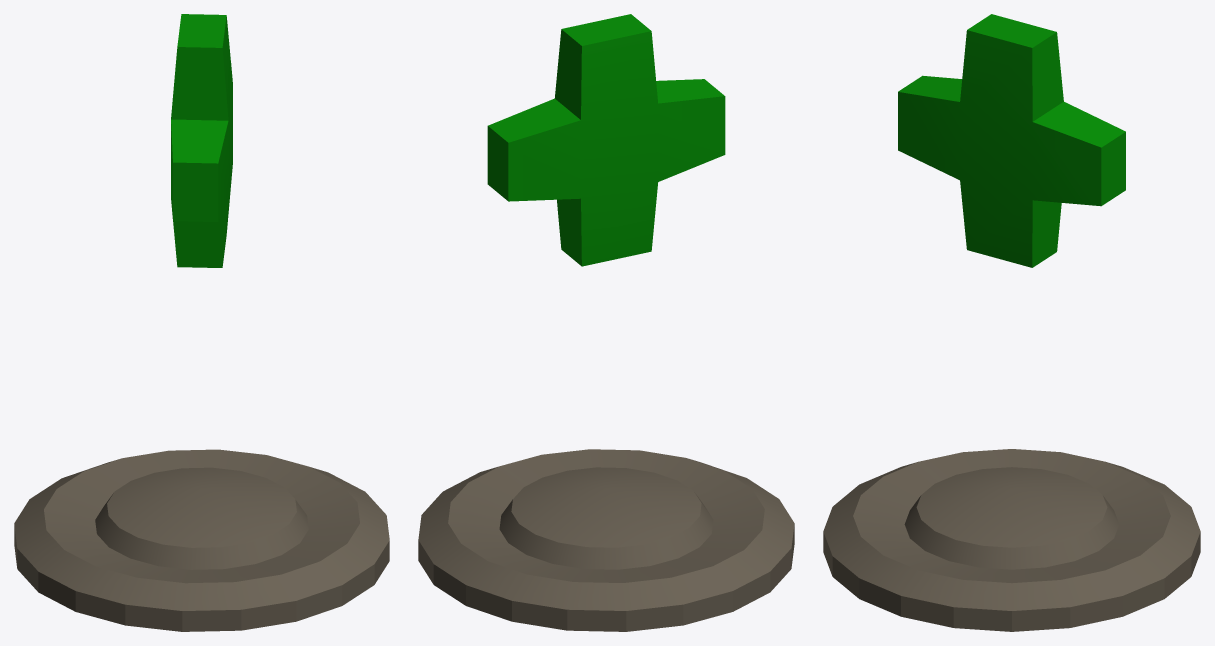
Rendered from HealthBonus.fbx.
3 views of the same model, side by side, from view 1: azimuth 30°, elevation 25°; view 2: azimuth 150°, elevation 25°; view 3: azimuth 270°, elevation 25° (orthographic).
Visible parts, largest first — view 1: Base, HealthBonus; view 2: Base, HealthBonus; view 3: Base, HealthBonus.
Boxes of the visible parts, left/top/right/bottom form: Base: left=14, top=449, right=389, bottom=631; HealthBonus: left=171, top=14, right=232, bottom=267; Base: left=418, top=449, right=794, bottom=631; HealthBonus: left=487, top=14, right=725, bottom=266; Base: left=823, top=449, right=1200, bottom=631; HealthBonus: left=898, top=14, right=1125, bottom=267.
Bounding box in the file's own units: 60.25 × 91.82 × 60.25.
